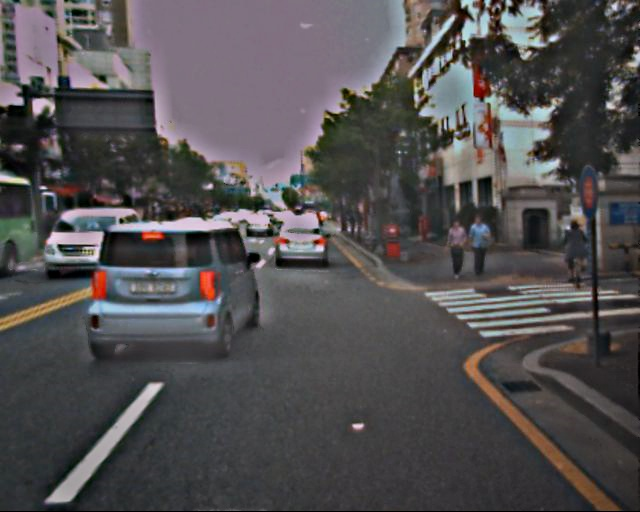person: (465, 214, 493, 282), (560, 219, 587, 285), (444, 219, 470, 282)
